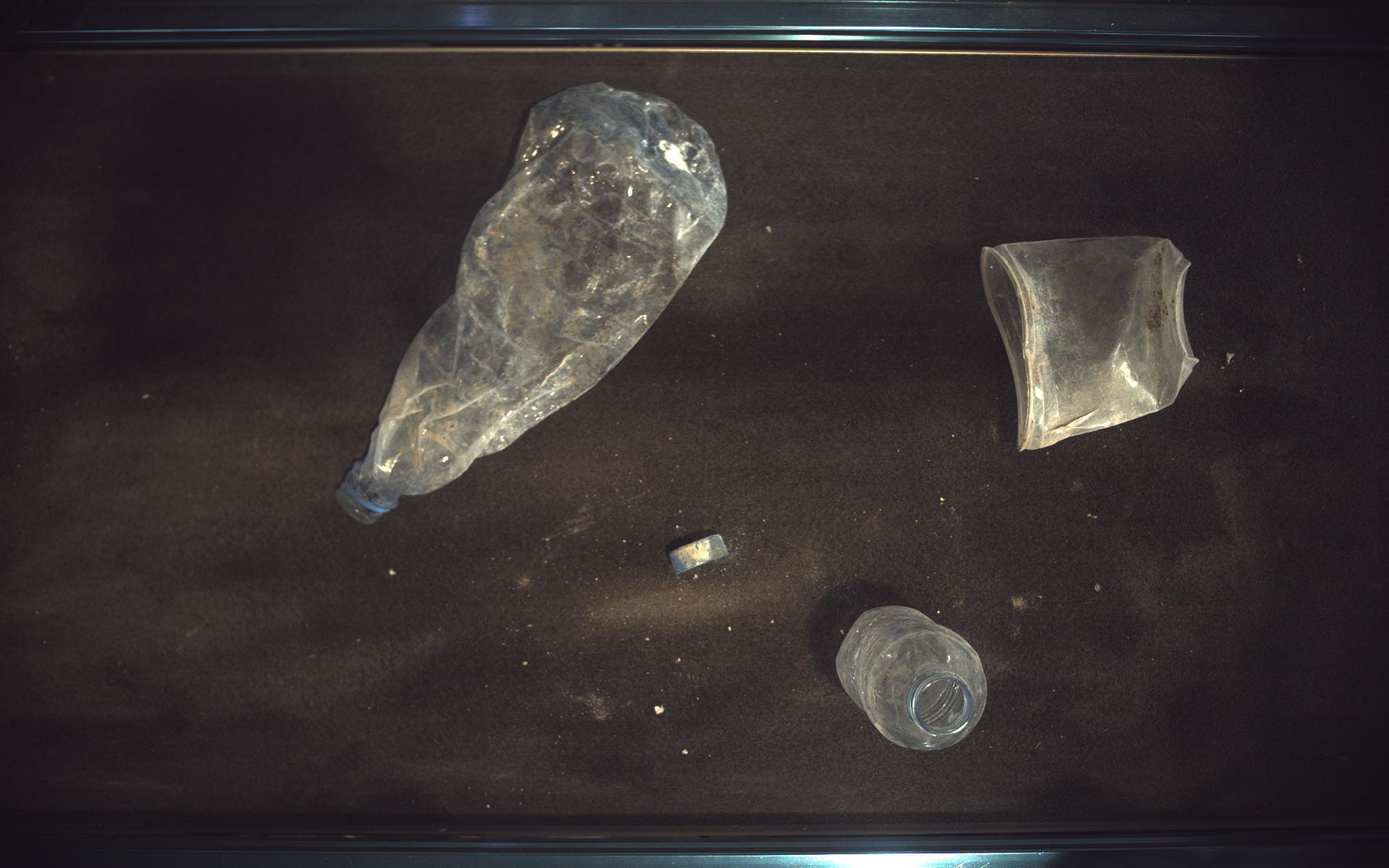general_w: (336, 82, 728, 524), (983, 236, 1201, 451), (837, 606, 989, 752), (668, 533, 730, 575)
